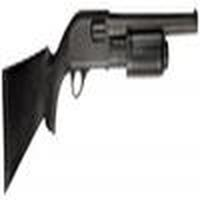gun: (5, 10, 198, 188)
